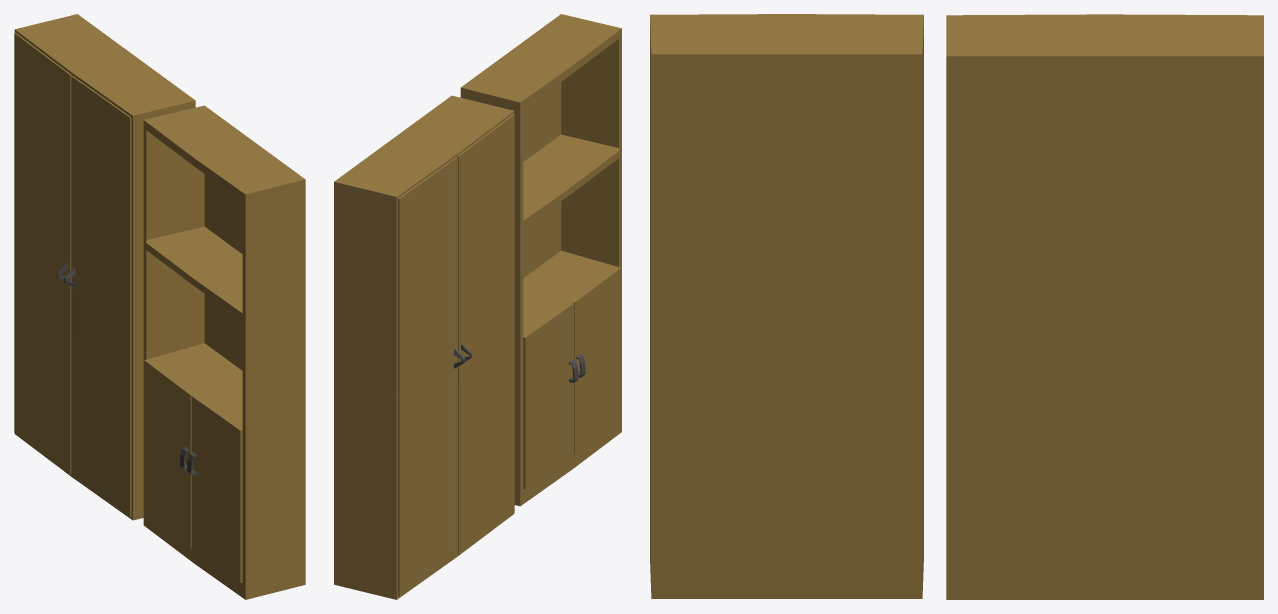
The model's file is armario_cozinha.obj.
3 renders of one model, left to right at view 1: azimuth 30°, elevation 25°; view 2: azimuth 150°, elevation 25°; view 3: azimuth 270°, elevation 25°, orthographic. The views are drawn at different scales.
Visible parts, largest first — view 1: Plano.002, Plano.001; view 2: Plano.001, Plano.002; view 3: Plano.001, Plano.002.
Boxes of the visible parts, box(x1,y1,x2,y2) form: Plano.002: box(143, 105, 305, 599); Plano.001: box(14, 14, 195, 520); Plano.001: box(334, 95, 514, 599); Plano.002: box(460, 14, 621, 506); Plano.001: box(946, 14, 1263, 599); Plano.002: box(650, 14, 923, 598).
Size of the model in its own units: 0.6073 by 3.13 by 3.19.
